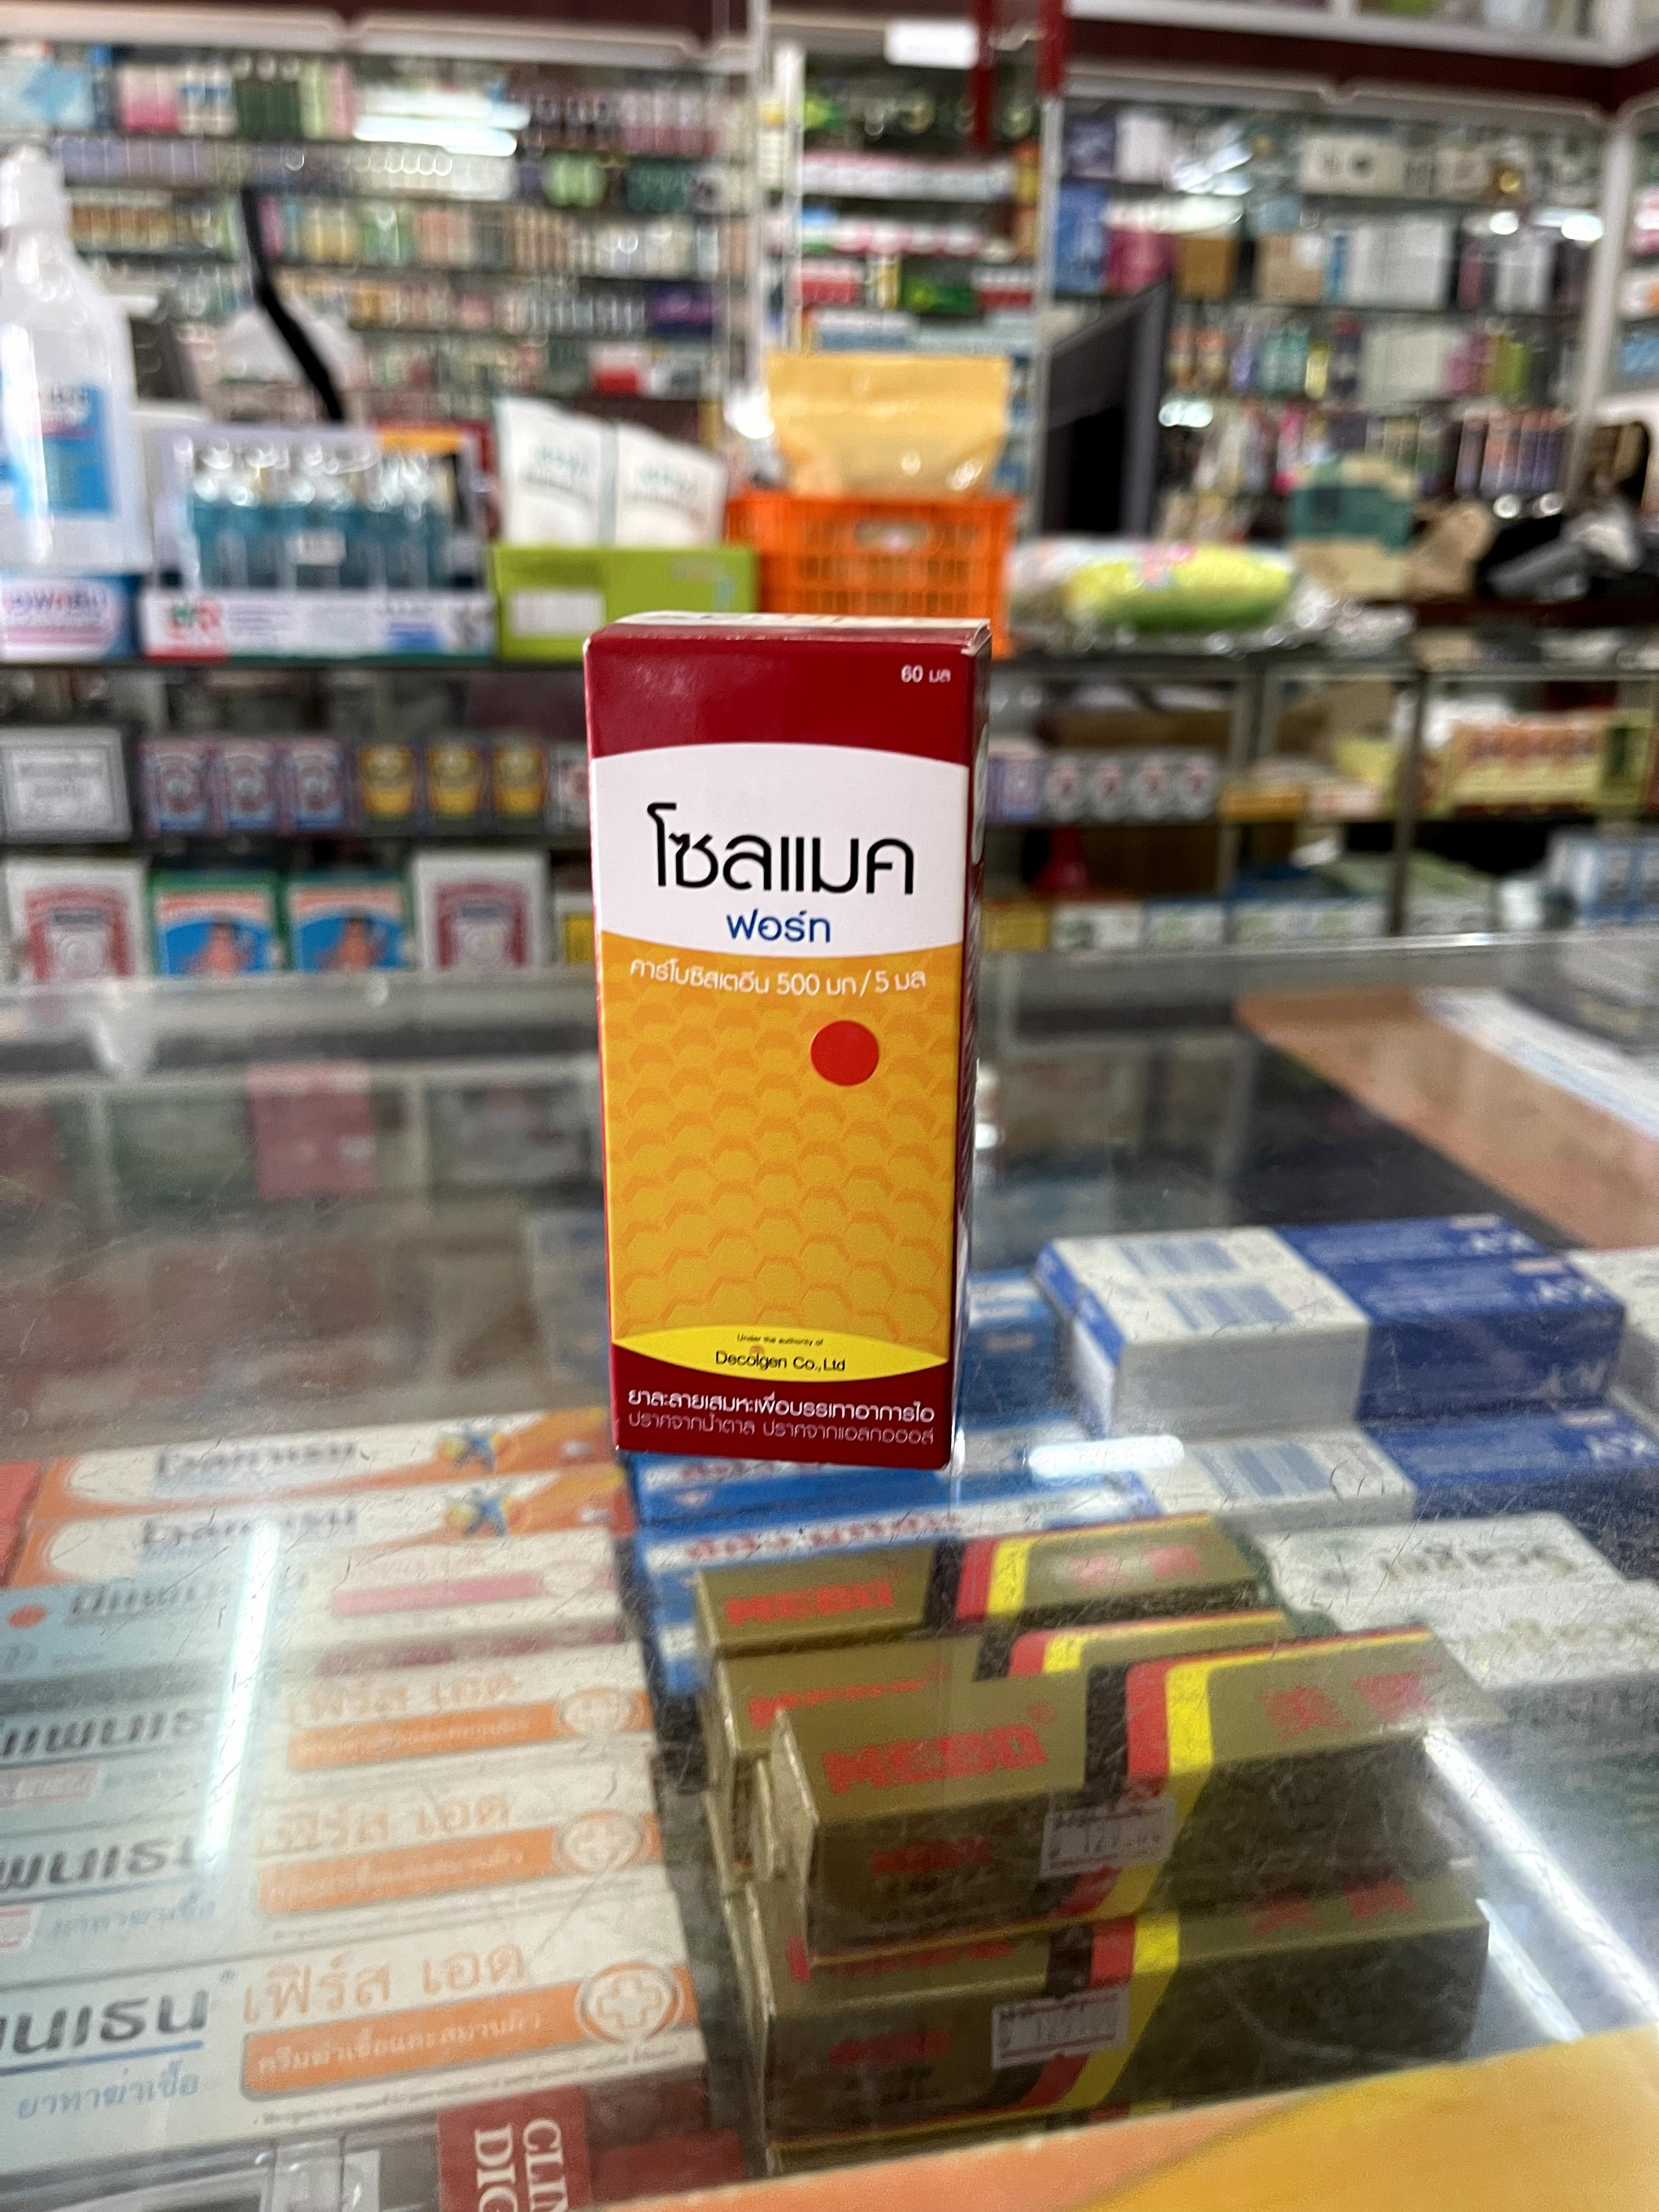Solmax: (589, 615, 985, 1465)
